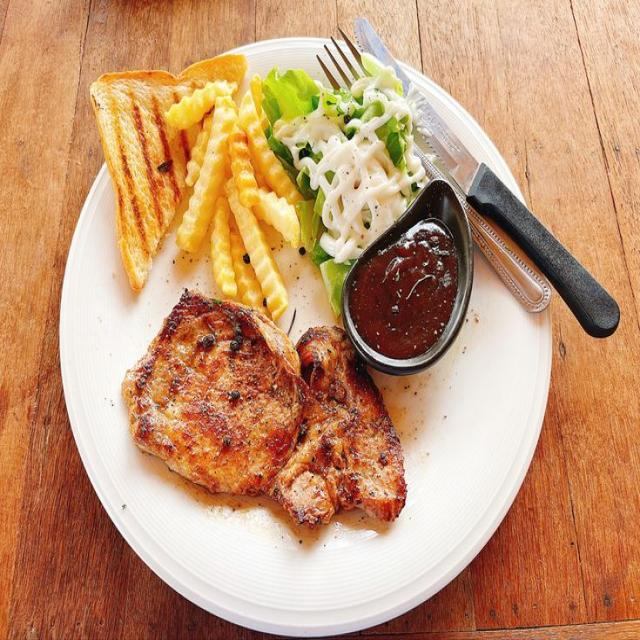carb: (92, 55, 302, 321)
meat: (124, 291, 407, 527)
vegetable: (264, 42, 427, 315)
